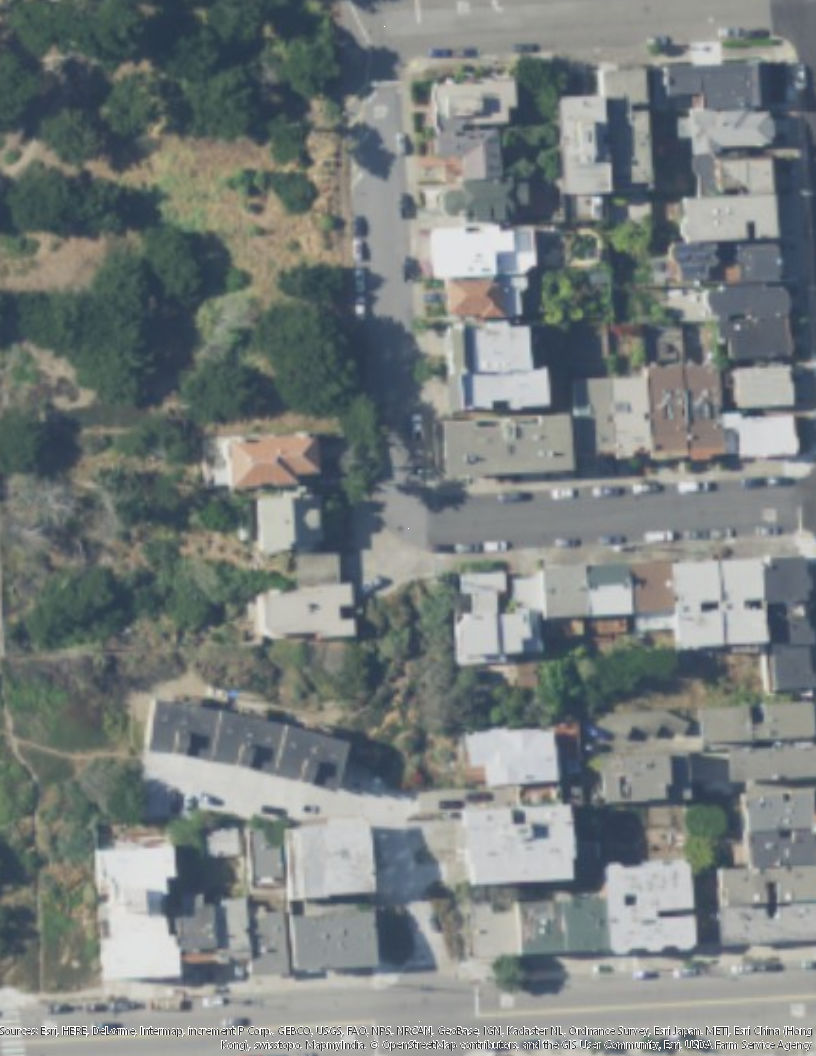zebracross: (1, 1007, 26, 1054)
